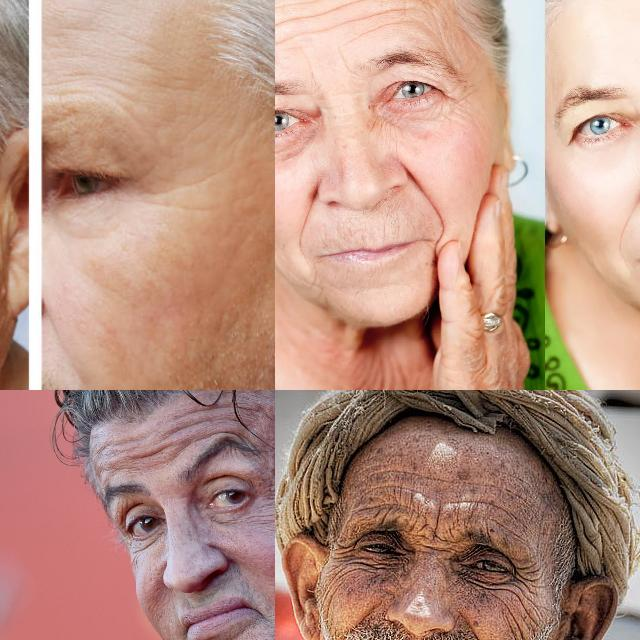bunny_line: (368, 116, 392, 140)
chin: (304, 268, 328, 306)
crows_feet: (441, 86, 477, 118), (331, 536, 362, 568), (512, 559, 536, 595), (260, 489, 275, 523)
forehead: (450, 489, 510, 521), (177, 409, 239, 439), (357, 0, 421, 29), (301, 0, 345, 34), (375, 459, 429, 485), (369, 478, 418, 502), (122, 443, 178, 461), (275, 2, 293, 51), (370, 499, 394, 528)
frown_line: (416, 536, 452, 560), (300, 54, 320, 90), (410, 520, 432, 548), (427, 499, 443, 536), (334, 45, 352, 71)
gummy_smile: (406, 169, 442, 223), (613, 191, 640, 249), (298, 180, 318, 242), (349, 604, 379, 628), (459, 618, 484, 640)
masseter: (503, 614, 533, 640), (318, 579, 338, 613)
